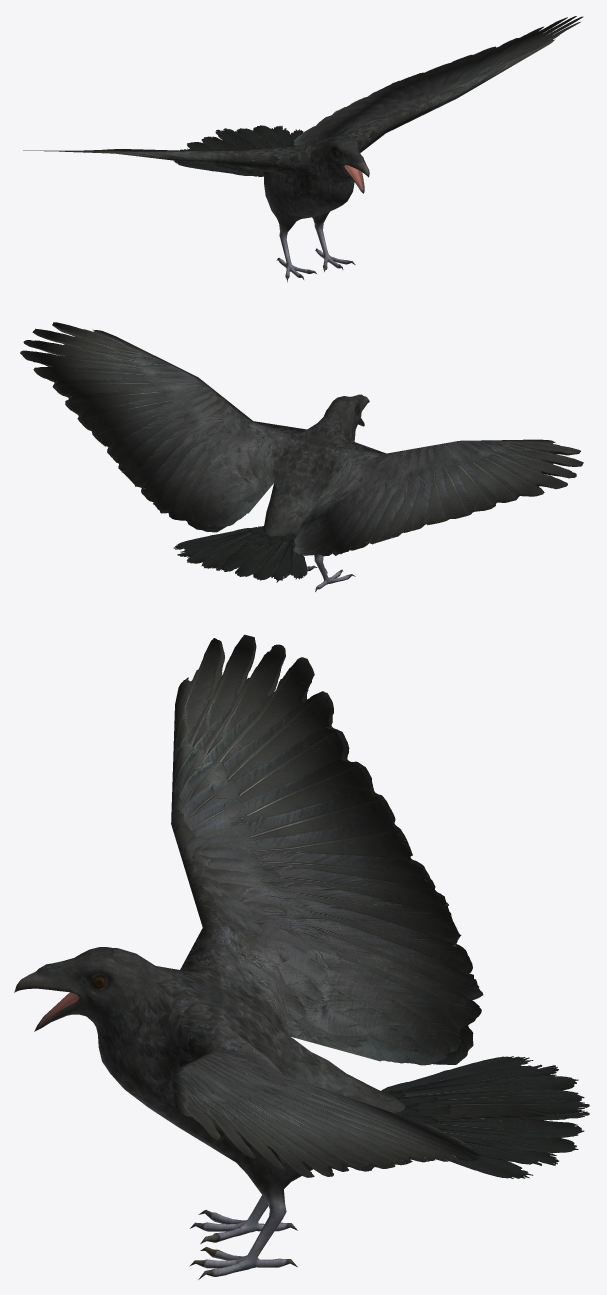
File: crow.glb
The picture shows the model from 3 angles, top to bottom: view 1: azimuth 30°, elevation 25°; view 2: azimuth 150°, elevation 25°; view 3: azimuth 270°, elevation 25°; orthographic projection. The views are drawn at different scales.
Parts seen in each view (by area): view 1: SK_Crow_0; view 2: SK_Crow_0; view 3: SK_Crow_0.
Part boxes in pixels (left/top/right/bottom): SK_Crow_0: left=23, top=16, right=583, bottom=282; SK_Crow_0: left=20, top=322, right=583, bottom=591; SK_Crow_0: left=14, top=634, right=589, bottom=1279.
Bounding box in the file's own units: 1.04 × 0.3392 × 0.4784.
1 material, 1 textured.
